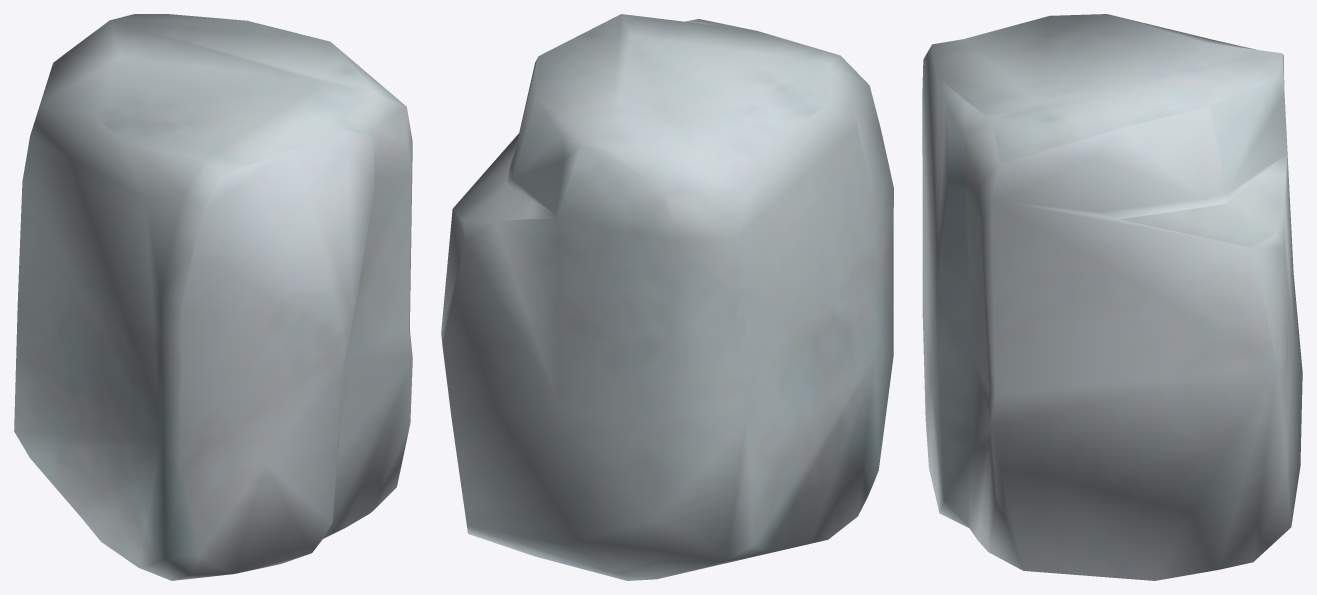
Rendered from P_RockCubic13.obj.
The picture shows the model from 3 angles, left to right: view 1: azimuth 30°, elevation 25°; view 2: azimuth 150°, elevation 25°; view 3: azimuth 270°, elevation 25°; orthographic projection. The views are drawn at different scales.
Size of the model in its own units: 3.59 by 5.18 by 4.02.
